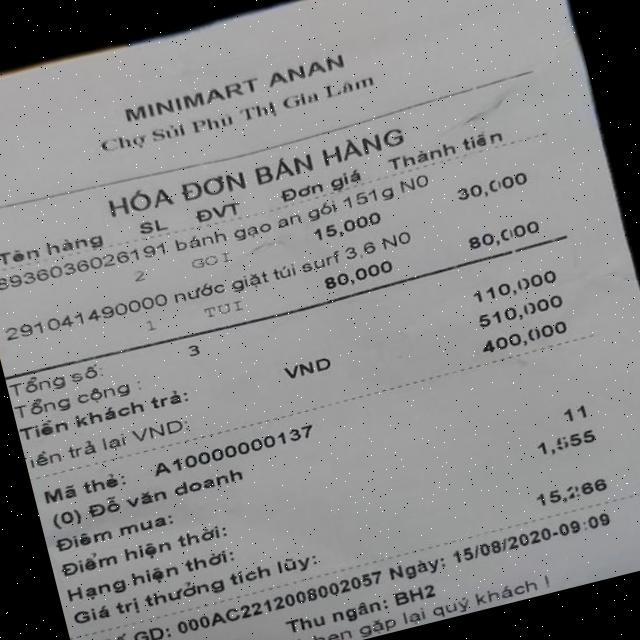Date: (442, 520, 558, 574)
Store_Name: (70, 31, 380, 148)
amount_number: (467, 263, 566, 310)
label_total: (15, 374, 136, 424)
